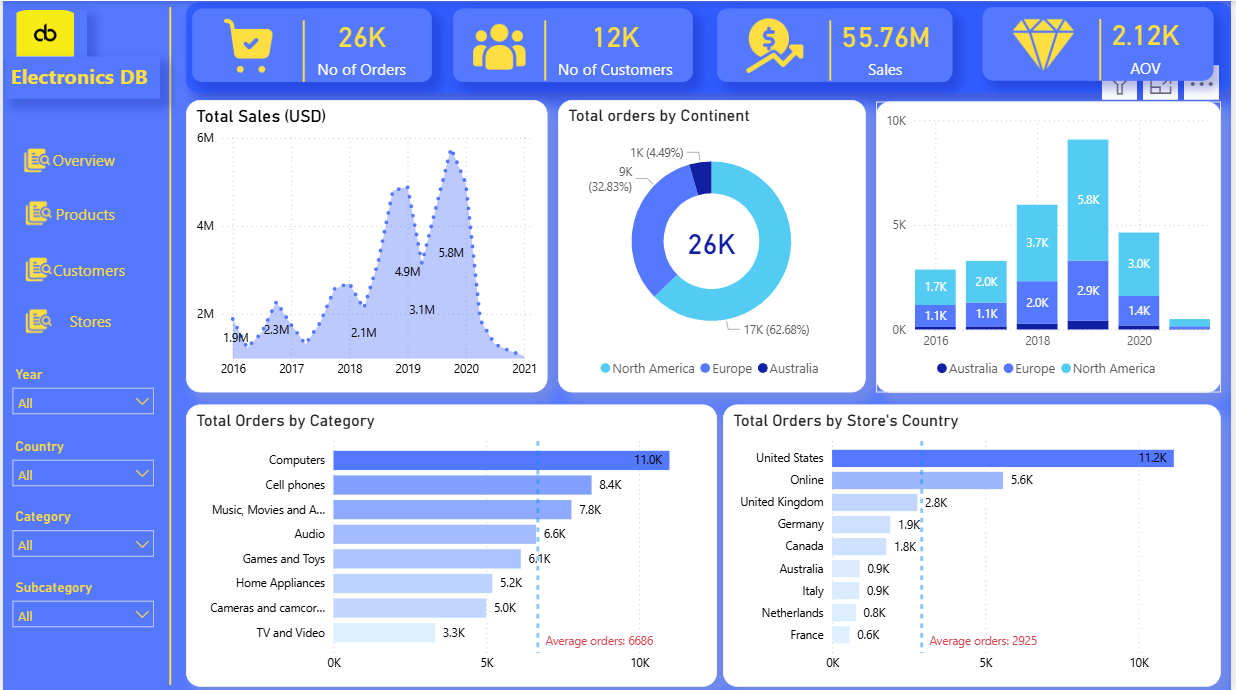

The page's visual inventory and layout, read from the dashboard file:
{"tool":"powerbi","page":{"name":"Overview","canvas":[1280,720],"ordinal":0},"visuals":[{"type":"textbox","box":[190.7,1.6,1089.4,93.8],"z":0},{"type":"actionButton","title":"Overview","box":[6,139.2,167,53.7],"z":0,"group":"g1"},{"type":"actionButton","title":"Overview","box":[8,194.9,167,51.7],"z":1000,"group":"g1"},{"type":"slicer","fields":{"Values":["dim_Date.Year"]},"box":[0,375.1,167.2,64.1],"z":1000},{"type":"actionButton","title":"Overview","box":[8,254.4,167,49.7],"z":2000,"group":"g1"},{"type":"slicer","fields":{"Values":["dim_customers.country"]},"box":[0,450.1,167.2,61],"z":2000},{"type":"actionButton","title":"Overview","box":[8,312.1,167,41.8],"z":3000,"group":"g1"},{"type":"slicer","fields":{"Values":["dim_products.category"]},"box":[0,523.6,167.2,62.5],"z":3000},{"type":"stackedAreaChart","title":"Total Sales (USD)","fields":{"Category":["dim_Date.Date.Variation.Date Hierarchy.Year","dim_Date.Date.Variation.Date Hierarchy.Quarter","dim_Date.Date.Variation.Date Hierarchy.Month","dim_Date.Date.Variation.Date Hierarchy.Day"],"Y":["metrics.Sales"]},"box":[190.7,103.2,376.7,304.8],"z":4000},{"type":"donutChart","title":"Total orders by Continent","fields":{"Category":["dim_customers.continent"],"Y":["Measure.No of Orders"]},"box":[578.3,103.2,320.4,304.8],"z":5000},{"type":"columnChart","fields":{"Series":["dim_customers.continent"],"Y":["Measure.No of Orders"],"Category":["dim_Date.Year"]},"box":[909.7,104.7,359.5,303.2],"z":6000},{"type":"clusteredBarChart","title":"Total Orders by Category","fields":{"Category":["dim_products.category"],"Y":["Measure.No of Orders"]},"box":[190.7,420.4,553.3,293.8],"z":7000},{"type":"textbox","box":[196.9,8.3,250.1,76.6],"z":8000},{"type":"clusteredBarChart","title":"Total Orders by Store''s Country","fields":{"Category":["dim_stores.country"],"Y":["Measure.No of Orders"]},"box":[750.2,420.4,518.9,293.8],"z":9000},{"type":"slicer","fields":{"Values":["dim_products.subcategory"]},"box":[0,597.1,167.2,62.5],"z":10000},{"type":"card","fields":{"Values":["Measure.No of Orders"]},"box":[315.7,7.8,115.7,76.6],"z":11000},{"type":"textbox","box":[468.9,7.8,250.1,76.6],"z":12000},{"type":"card","fields":{"Values":["metrics.No of Customers"]},"box":[567.4,7.8,140.7,76.6],"z":13000},{"type":"textbox","box":[744,7.8,245.4,76.6],"z":14000},{"type":"card","fields":{"Values":["metrics.Sales"]},"box":[862.8,7.8,112.5,76.6],"z":15000},{"type":"textbox","box":[1020.6,6.3,240.7,76.6],"z":16000},{"type":"card","fields":{"Values":["metrics.AOV"]},"box":[1130,6.3,120.4,76.6],"z":17000},{"type":"shape","box":[254.8,20.3,117.2,64.1],"z":18000},{"type":"shape","box":[506.4,20.3,117.2,62.5],"z":19000},{"type":"shape","box":[803.4,20.3,117.2,62.5],"z":20000},{"type":"shape","box":[1084.7,18.8,117.2,64.1],"z":21000},{"type":"image","box":[221.9,10.9,67.2,70.3],"z":22000},{"type":"image","box":[484.5,20.3,65.6,54.7],"z":23000},{"type":"image","box":[770.6,15.6,67.2,59.4],"z":24000},{"type":"image","box":[1044.1,14.1,79.7,64.1],"z":25000},{"type":"card","fields":{"Values":["metrics.No of Orders"]},"box":[697.1,217.3,81.3,68.8],"z":26000},{"type":"shape","box":[115.7,6.3,117.2,706.5],"z":27000},{"type":"group","id":"g1","title":"Navigation buttons","box":[6,139.2,169,214.6],"z":28000},{"type":"image","box":[0,9.9,87.5,51.7],"z":29000},{"type":"textbox","box":[3.2,58.4,160.5,43.8],"z":30000}]}

Visuals, with their boxes on the page's 1280x720 design canvas (x1, y1, x2, y2). These are canvas units, not pixel positions in the 1236x690 screenshot, which may show the page scaled, cropped or inside an application window:
textbox: crop(191, 2, 1280, 95)
"Overview" actionButton: crop(6, 139, 173, 193)
"Overview" actionButton: crop(8, 195, 175, 247)
slicer - dim_Date.Year: crop(0, 375, 167, 439)
"Overview" actionButton: crop(8, 254, 175, 304)
slicer - dim_customers.country: crop(0, 450, 167, 511)
"Overview" actionButton: crop(8, 312, 175, 354)
slicer - dim_products.category: crop(0, 524, 167, 586)
"Total Sales (USD)" stackedAreaChart: crop(191, 103, 567, 408)
"Total orders by Continent" donutChart: crop(578, 103, 899, 408)
columnChart - dim_customers.continent x Measure.No of Orders: crop(910, 105, 1269, 408)
"Total Orders by Category" clusteredBarChart: crop(191, 420, 744, 714)
textbox: crop(197, 8, 447, 85)
"Total Orders by Store''s Country" clusteredBarChart: crop(750, 420, 1269, 714)
slicer - dim_products.subcategory: crop(0, 597, 167, 660)
card - Measure.No of Orders: crop(316, 8, 431, 84)
textbox: crop(469, 8, 719, 84)
card - metrics.No of Customers: crop(567, 8, 708, 84)
textbox: crop(744, 8, 989, 84)
card - metrics.Sales: crop(863, 8, 975, 84)
textbox: crop(1021, 6, 1261, 83)
card - metrics.AOV: crop(1130, 6, 1250, 83)
shape: crop(255, 20, 372, 84)
shape: crop(506, 20, 624, 83)
shape: crop(803, 20, 921, 83)
shape: crop(1085, 19, 1202, 83)
image: crop(222, 11, 289, 81)
image: crop(484, 20, 550, 75)
image: crop(771, 16, 838, 75)
image: crop(1044, 14, 1124, 78)
card - metrics.No of Orders: crop(697, 217, 778, 286)
shape: crop(116, 6, 233, 713)
"Navigation buttons" group: crop(6, 139, 175, 354)
image: crop(0, 10, 88, 62)
textbox: crop(3, 58, 164, 102)
